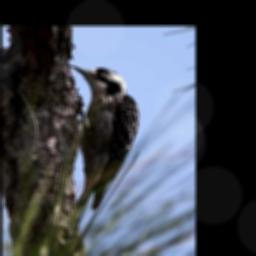Woodpecker: (63, 57, 147, 217)
